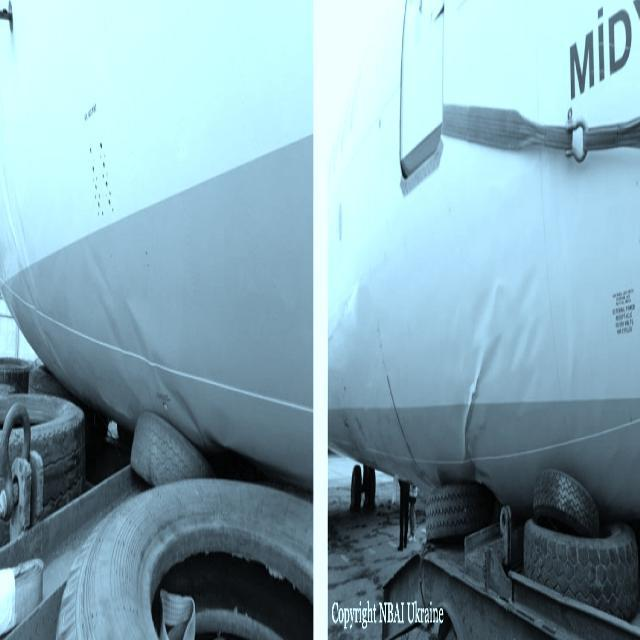dent: (80, 230, 217, 437), (465, 263, 539, 496)
